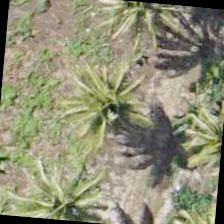Kelapa_Sawit: (57, 54, 155, 152)
